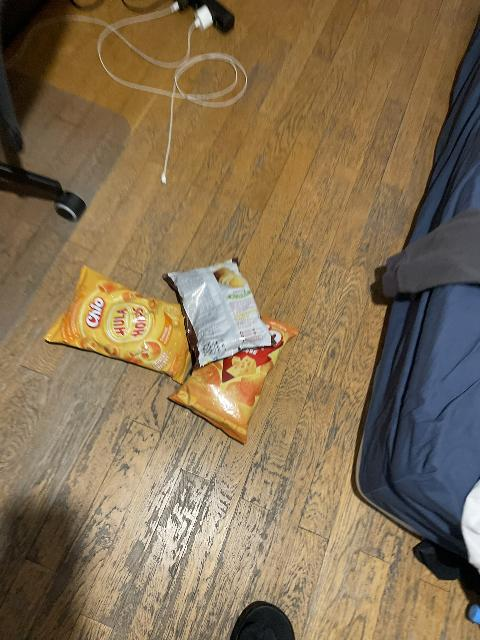Chio Cascaval 125g: (166, 319, 298, 442)
Chio Hula Hoops Cheese 70g: (44, 265, 191, 380)
Lays Beef Grilled Ribs 125g: (164, 259, 278, 368)
